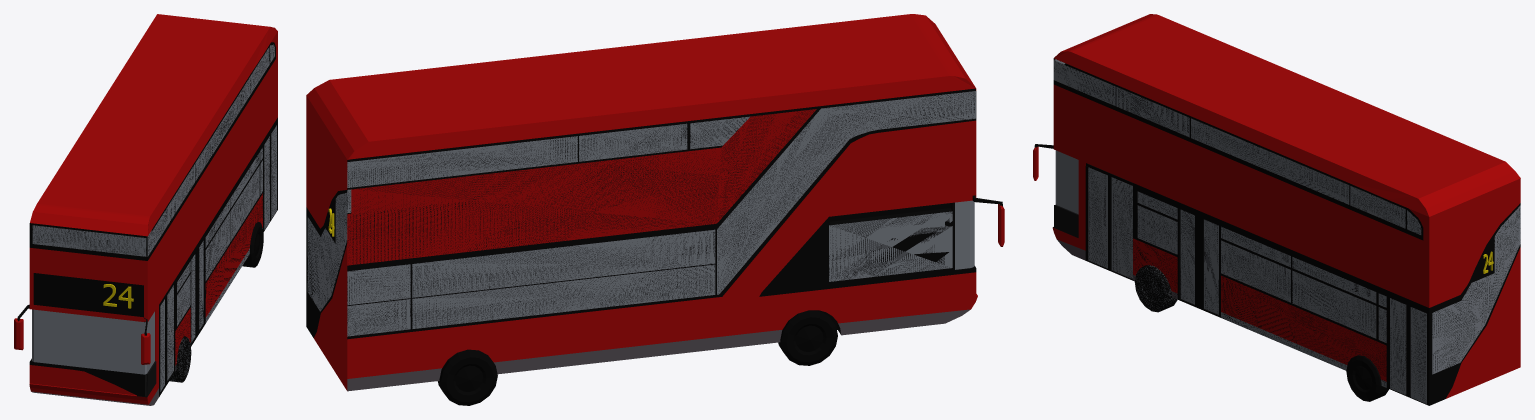
Rendered from double-decker-bus-4.dae.
3 renders of one model, left to right at view 1: azimuth 30°, elevation 25°; view 2: azimuth 150°, elevation 25°; view 3: azimuth 270°, elevation 25°, orthographic. The views are drawn at different scales.
Parts seen in each view (by area): view 1: skp3XV1Sg (×33); view 2: skp3XV1Sg (×20); view 3: skp3XV1Sg (×28).
Boxes of the visible parts, box(x1,y1,x2,y2) form: skp3XV1Sg (×33): box(14, 14, 277, 405); skp3XV1Sg (×20): box(306, 14, 977, 405); skp3XV1Sg (×28): box(1052, 14, 1520, 405).
Size of the model in its own units: 373 by 372 by 187.
